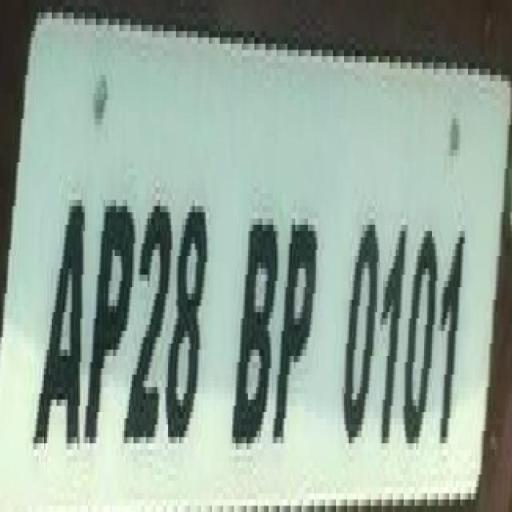number plate: (17, 12, 512, 512)
